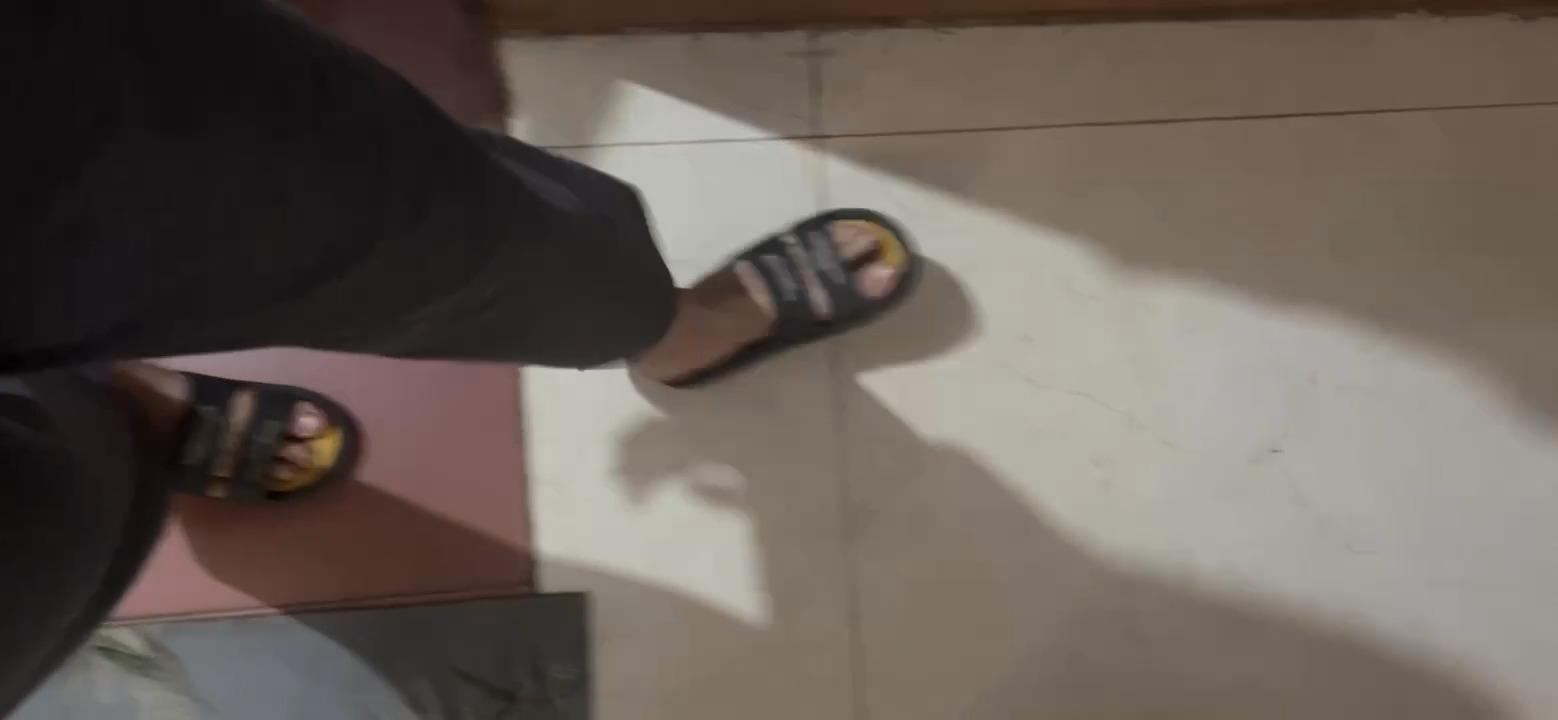no-boot: (647, 203, 924, 384), (117, 361, 369, 511)
